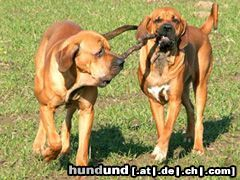fila_brasileiro: (31, 18, 138, 166), (134, 2, 218, 162)
